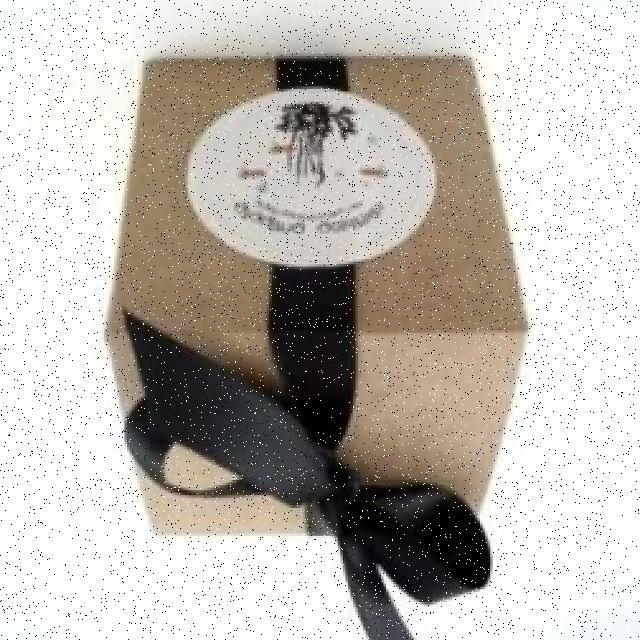box: (92, 36, 524, 546)
